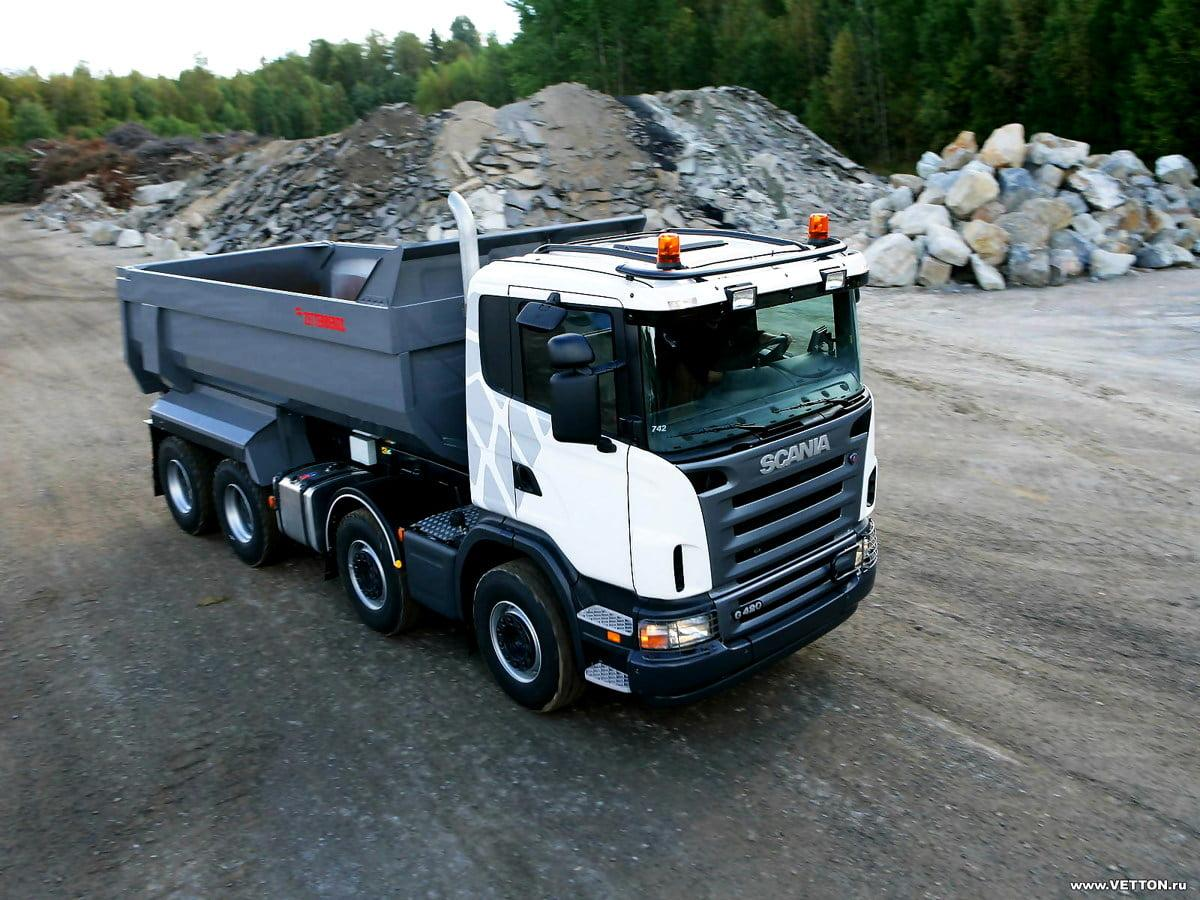vehicle: (118, 191, 878, 714)
